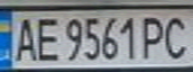1: (118, 12, 142, 61)
5: (81, 14, 103, 62)
6: (100, 14, 121, 61)
9: (60, 15, 84, 62)
A: (9, 14, 39, 63)
C: (160, 12, 193, 60)
E: (33, 14, 60, 63)
P: (139, 12, 172, 61)
